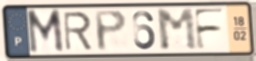6: (131, 10, 158, 51)
F: (192, 7, 227, 52)
M: (155, 7, 200, 53), (25, 7, 66, 56)
P: (92, 9, 129, 54)
R: (61, 10, 94, 53)
